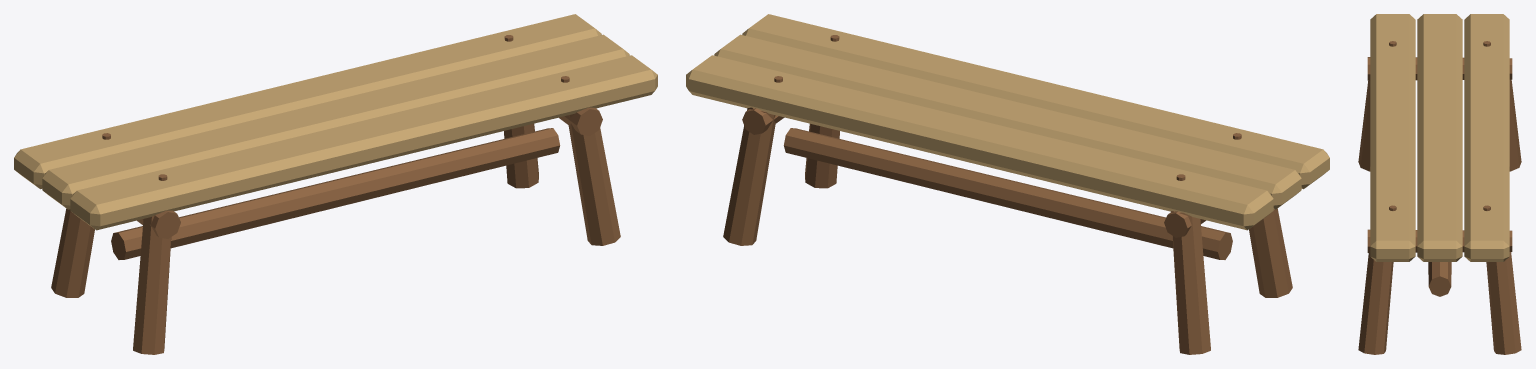
The picture shows the model from 3 angles, left to right: view 1: azimuth 30°, elevation 25°; view 2: azimuth 150°, elevation 25°; view 3: azimuth 270°, elevation 25°; orthographic projection. The views are drawn at different scales.
Parts seen in each view (by area): view 1: GF-194 Low shared household dining bench batched; view 2: GF-194 Low shared household dining bench batched; view 3: GF-194 Low shared household dining bench batched.
Boxes of the visible parts, x1,y1,x2,y2 form: GF-194 Low shared household dining bench batched: (14, 14, 657, 354); GF-194 Low shared household dining bench batched: (686, 14, 1329, 354); GF-194 Low shared household dining bench batched: (1358, 14, 1521, 354).
Bounding box in the file's own units: 1.75 × 0.4737 × 0.5201.
